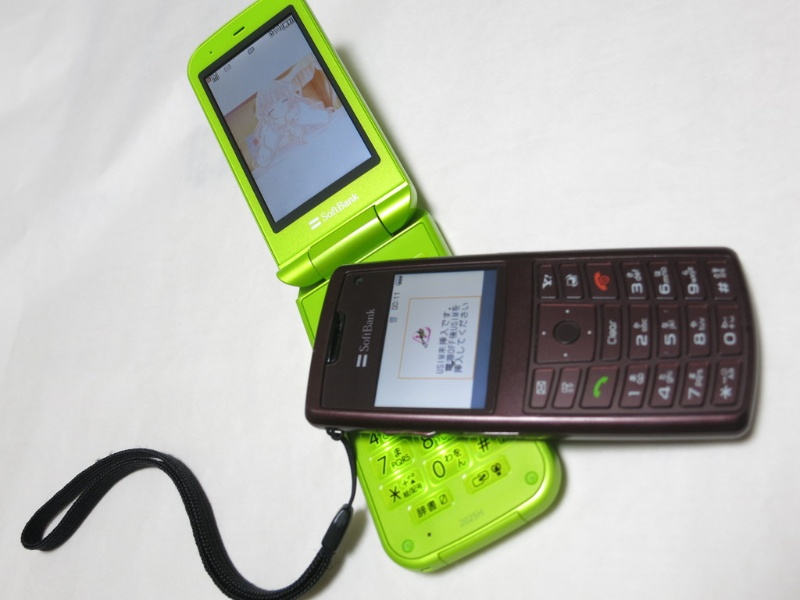cellphone: (303, 243, 765, 447)
